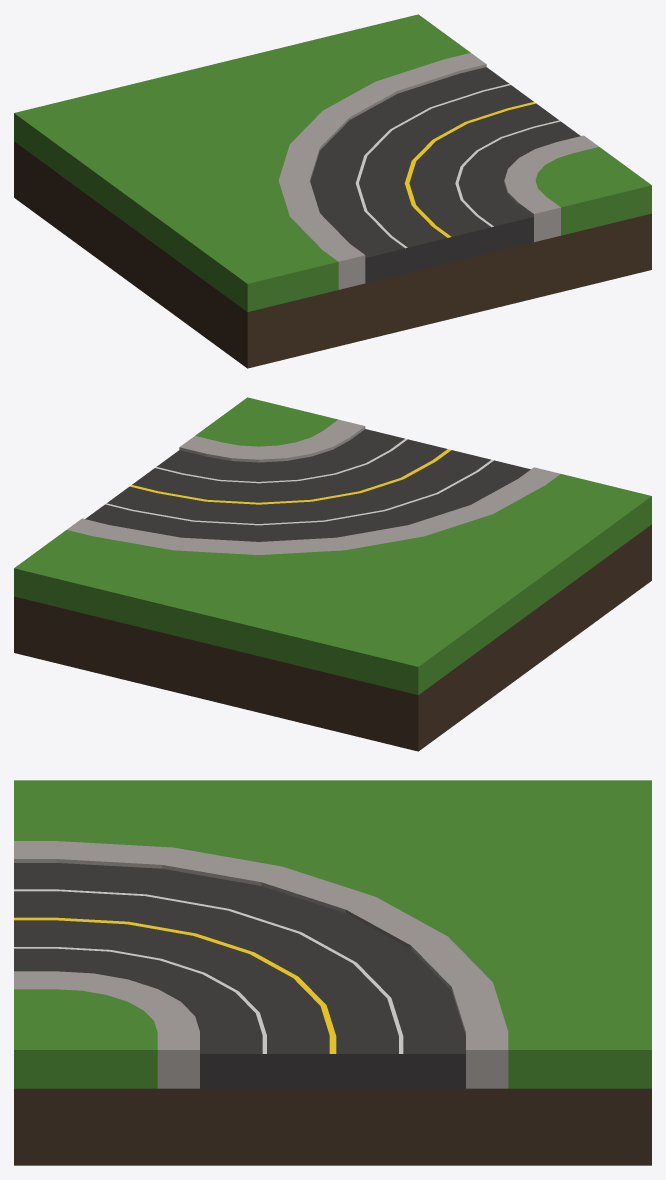
The model's file is tiles_tile-mainroad-curve.fbx.
3 renders of one model, top to bottom at view 1: azimuth 30°, elevation 25°; view 2: azimuth 150°, elevation 25°; view 3: azimuth 270°, elevation 25°, orthographic. The views are drawn at different scales.
Visible parts, largest first — view 1: tiles_tile_mainroad_curve; view 2: tiles_tile_mainroad_curve; view 3: tiles_tile_mainroad_curve.
Part boxes in pixels (x1,y1,x2,y2): tiles_tile_mainroad_curve: (14, 14, 651, 368); tiles_tile_mainroad_curve: (14, 397, 651, 751); tiles_tile_mainroad_curve: (14, 780, 651, 1165).
Bounding box in the file's own units: 200 × 40 × 200.
